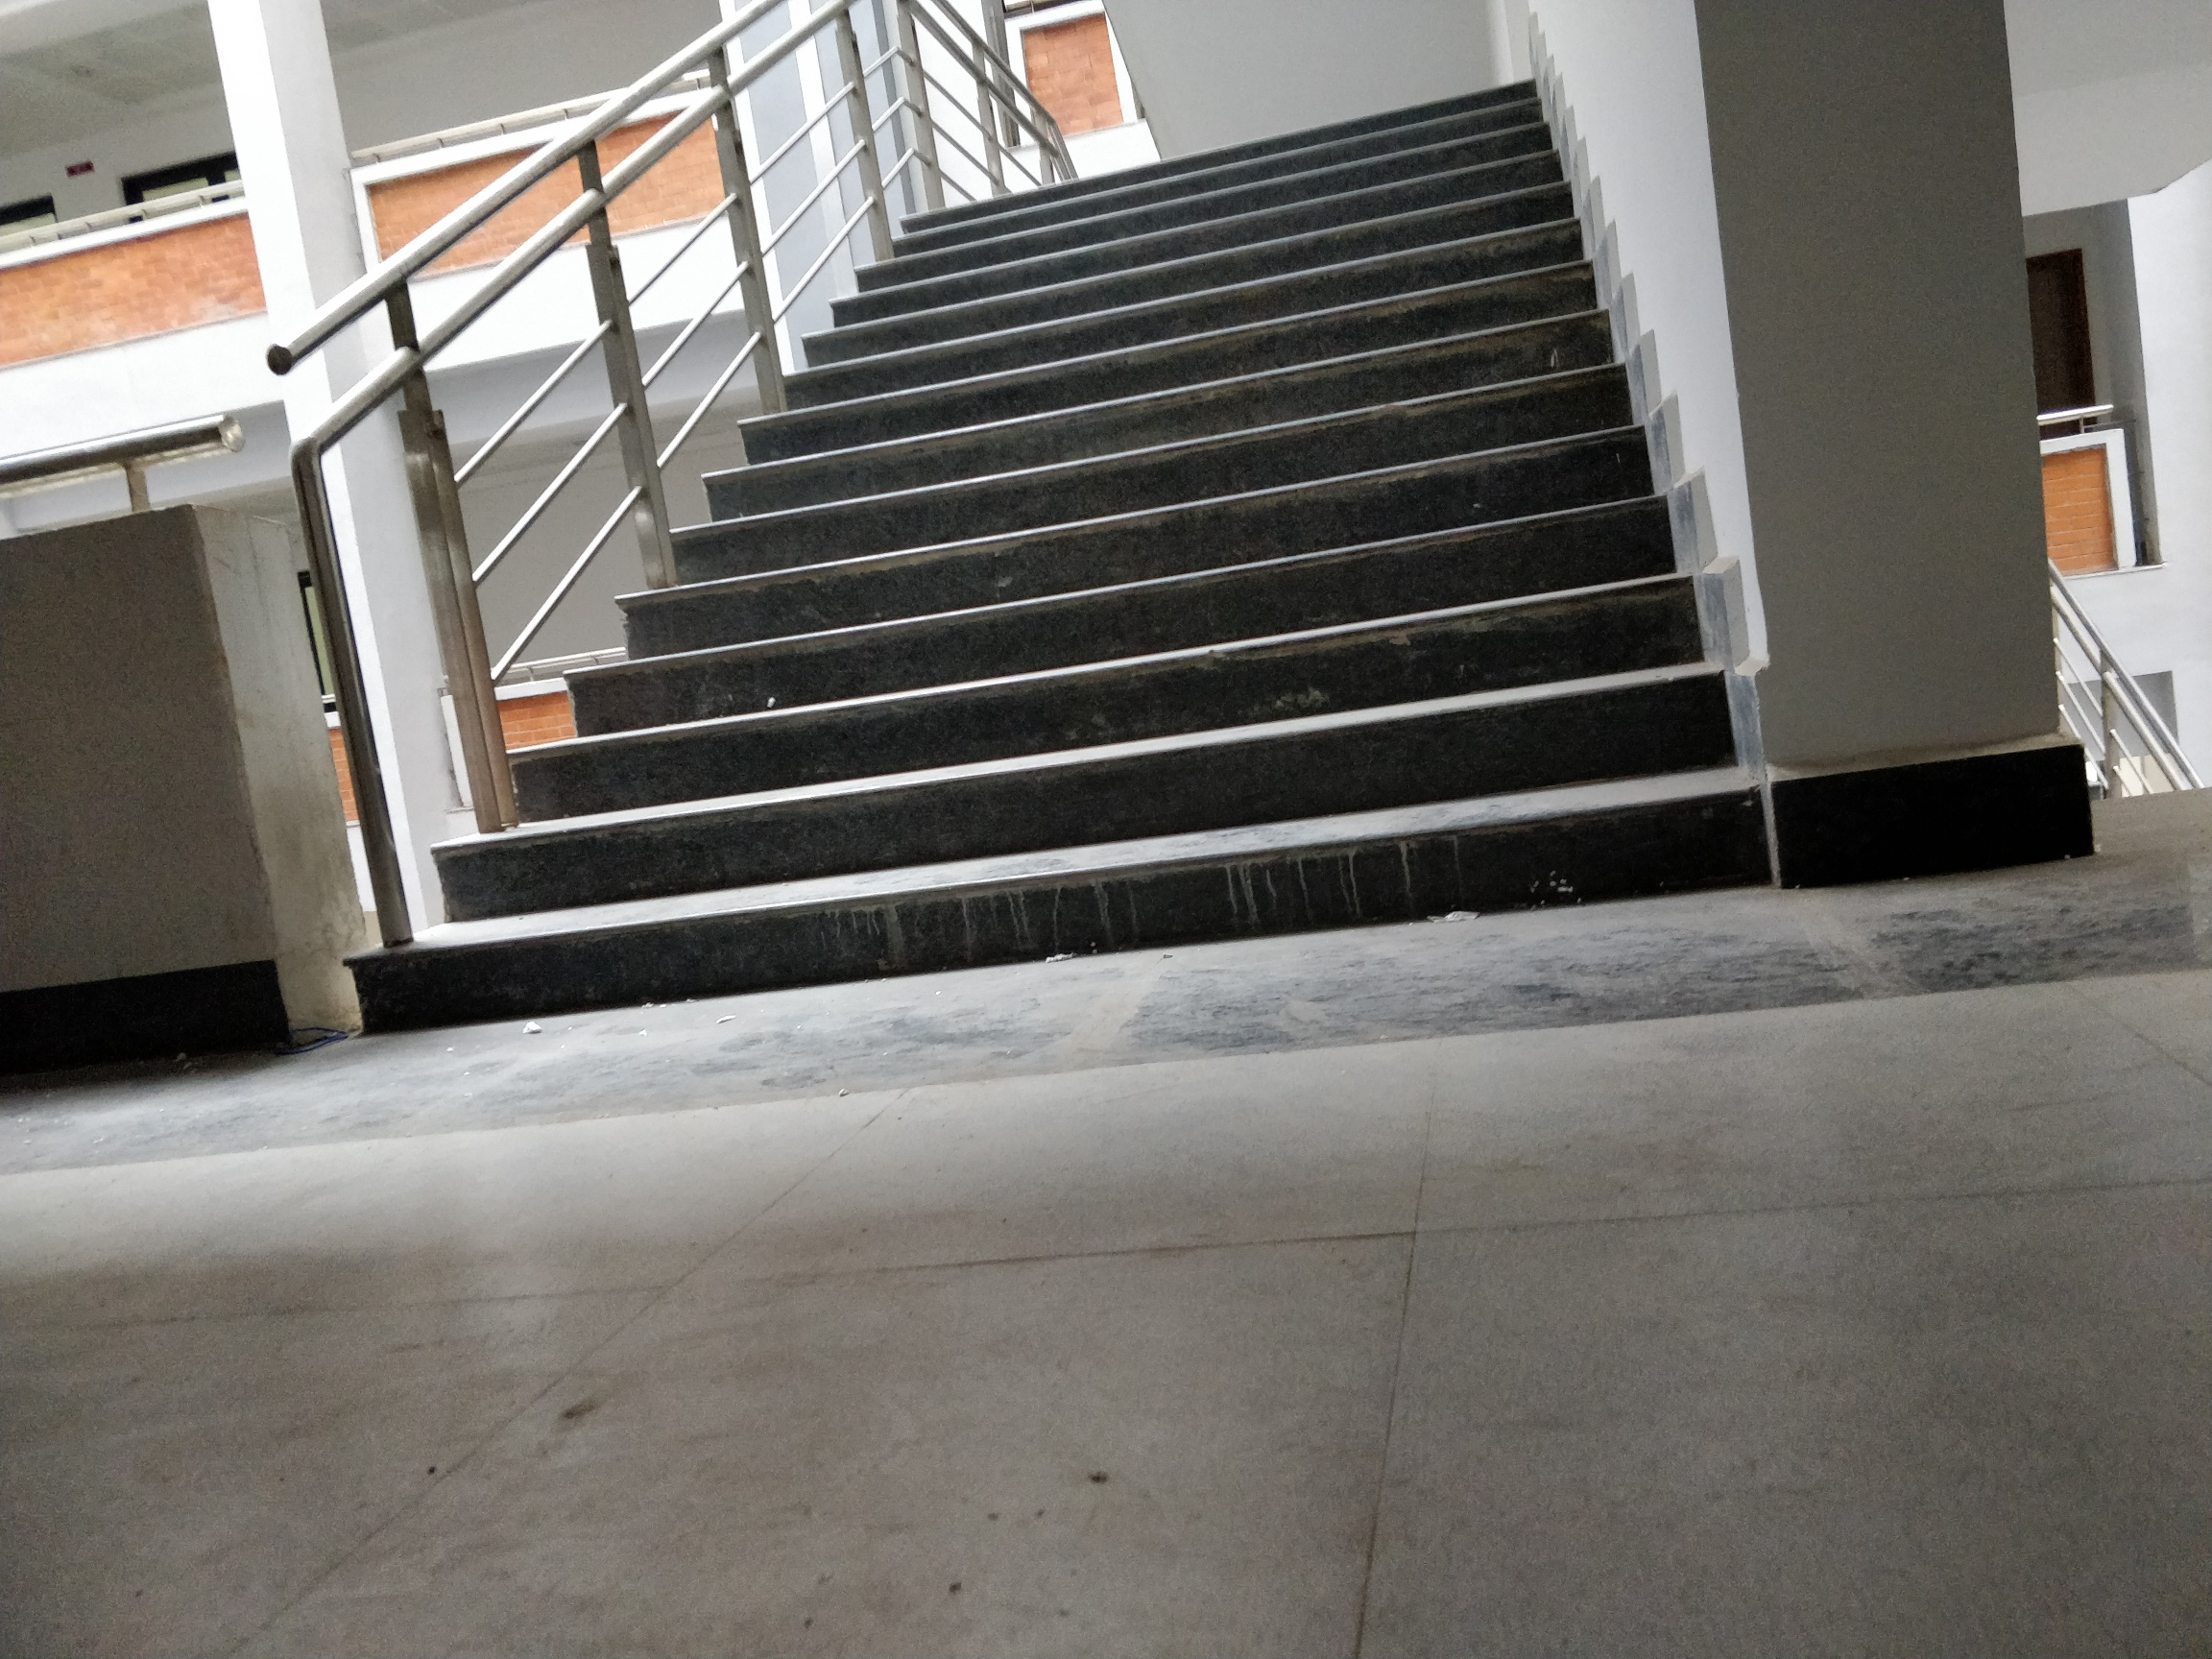stairs_up: (702, 216, 1683, 936)
